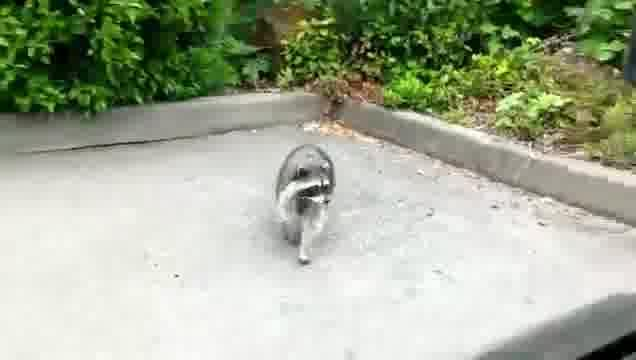raccoon: (273, 142, 336, 264)
